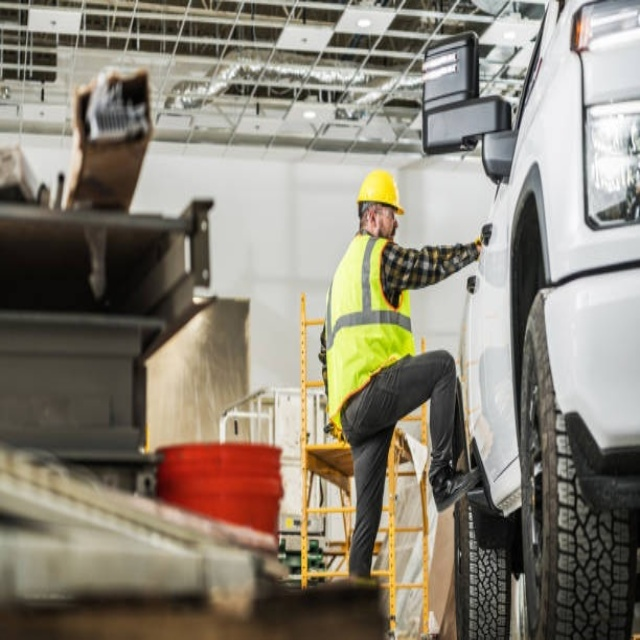Gafas: (371, 207, 397, 221)
Guantes: (478, 223, 493, 248)
Sin_mascara: (382, 223, 398, 244)
